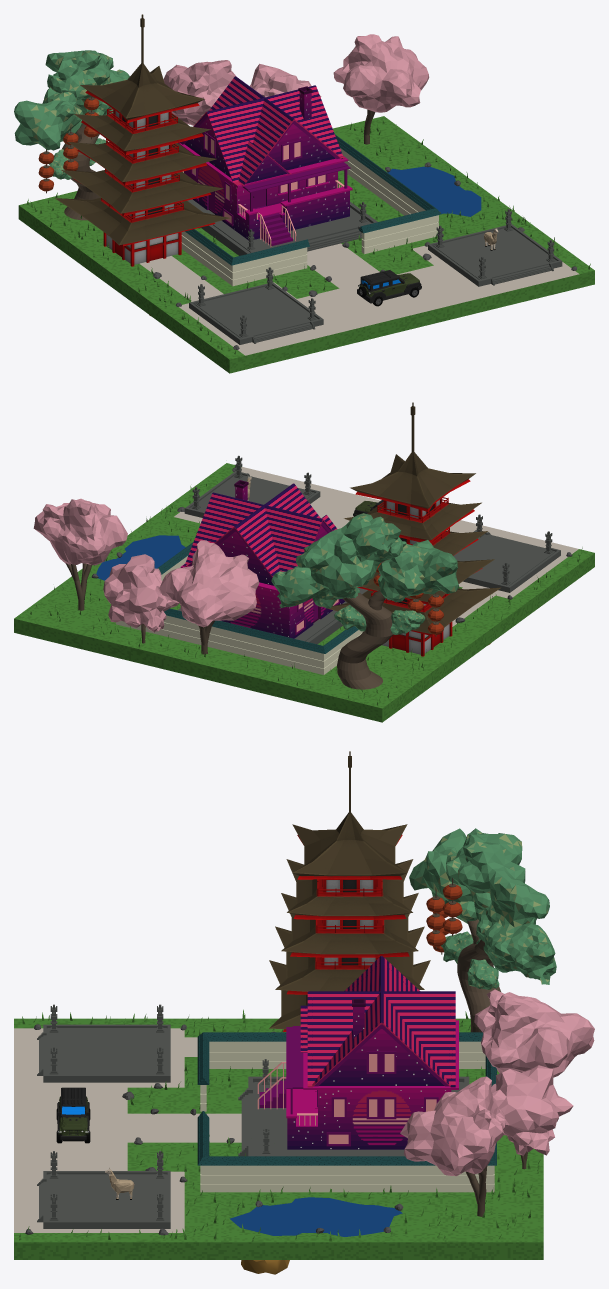
3 renders of one model, top to bottom at view 1: azimuth 30°, elevation 25°; view 2: azimuth 150°, elevation 25°; view 3: azimuth 270°, elevation 25°, orthographic. The views are drawn at different scales.
Parts seen in each view (by area): view 1: Cube.005, Cube.156, VEHICLES_JEEP; view 2: Cube.005, Cube.156; view 3: Cube.005, Cube.156, VEHICLES_JEEP.
Part boxes in pixels (<box>): Cube.005: <box>14,14,594,373</box>; Cube.156: <box>178,76,352,247</box>; VEHICLES_JEEP: <box>357,270,421,306</box>; Cube.005: <box>14,402,594,722</box>; Cube.156: <box>180,480,344,638</box>; Cube.005: <box>14,751,594,1259</box>; Cube.156: <box>257,956,458,1149</box>; VEHICLES_JEEP: <box>56,1087,90,1143</box>.
Size of the model in its own units: 4528 by 2803 by 4389.
35 materials, 7 textured.
